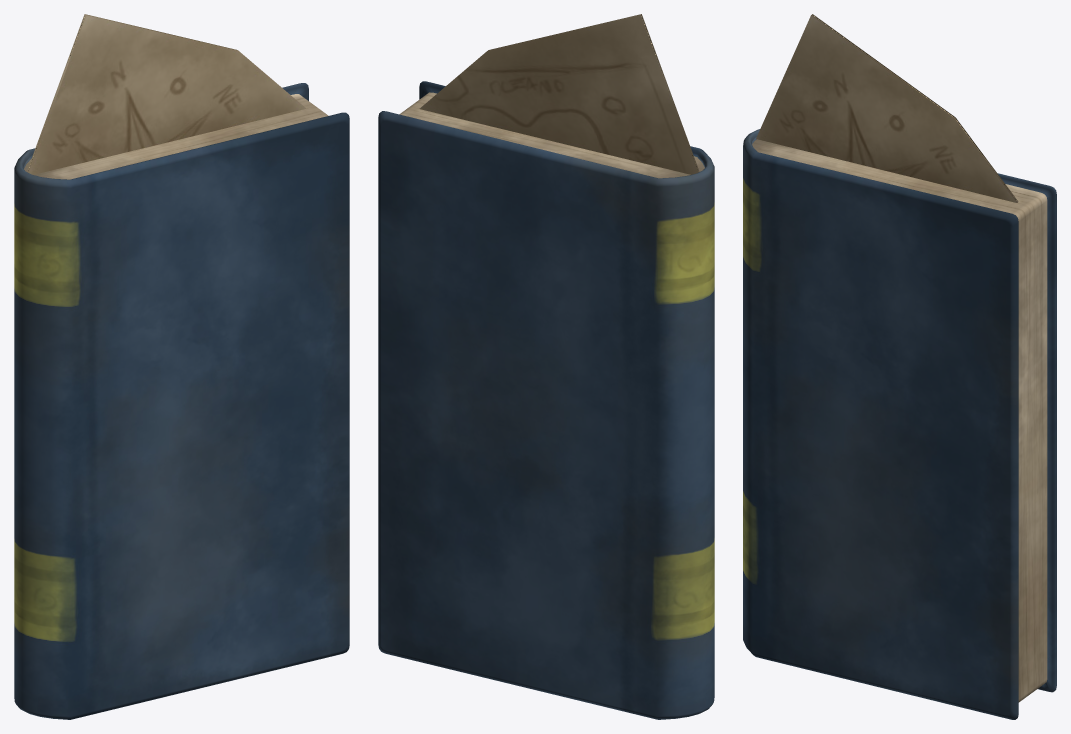
Rendered from Libro 2 Fin.FBX.
The picture shows the model from 3 angles, left to right: view 1: azimuth 30°, elevation 25°; view 2: azimuth 150°, elevation 25°; view 3: azimuth 330°, elevation 25°; orthographic projection. The views are drawn at different scales.
Parts seen in each view (by area): view 1: Libro2; view 2: Libro2; view 3: Libro2.
Boxes of the visible parts, bbox=[...] form: Libro2: bbox=[14, 14, 349, 719]; Libro2: bbox=[378, 14, 714, 719]; Libro2: bbox=[743, 14, 1056, 719].
Bounding box in the file's own units: 17.59 × 36.91 × 4.62.
Materials: 1 (1 with a texture image).
